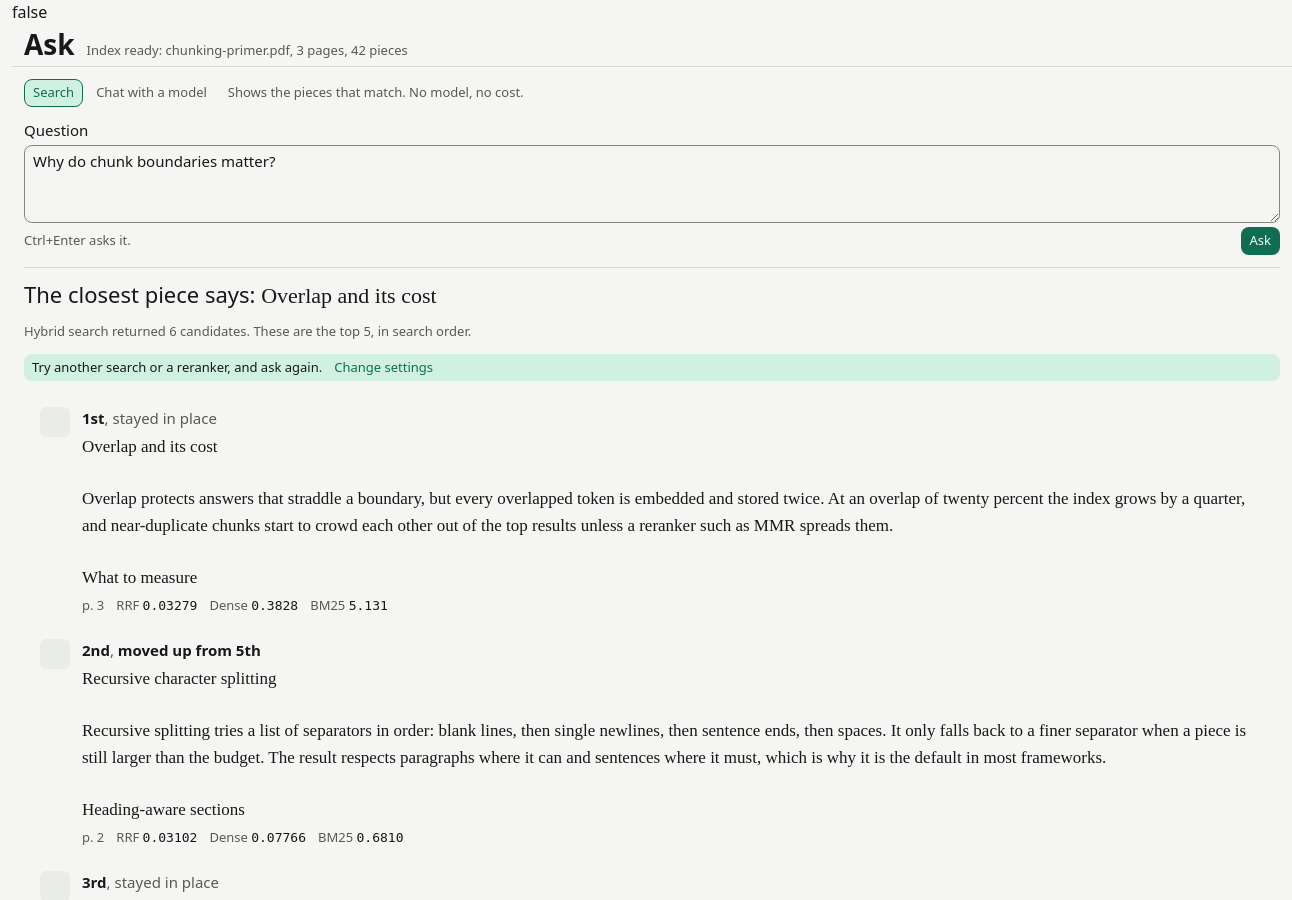
Test: finding the answer › right under a fresh answer, invites a change of search or reranker, and its button opens the settings and goes to them
Check: the element with test id "ask-invite" reads "Try another search or a reranker, and ask again. Change settings", box [24, 354, 1280, 381]
Step 1. Click the button "Change settings" → [384, 367], box [334, 358, 433, 377]
(page scrolled)
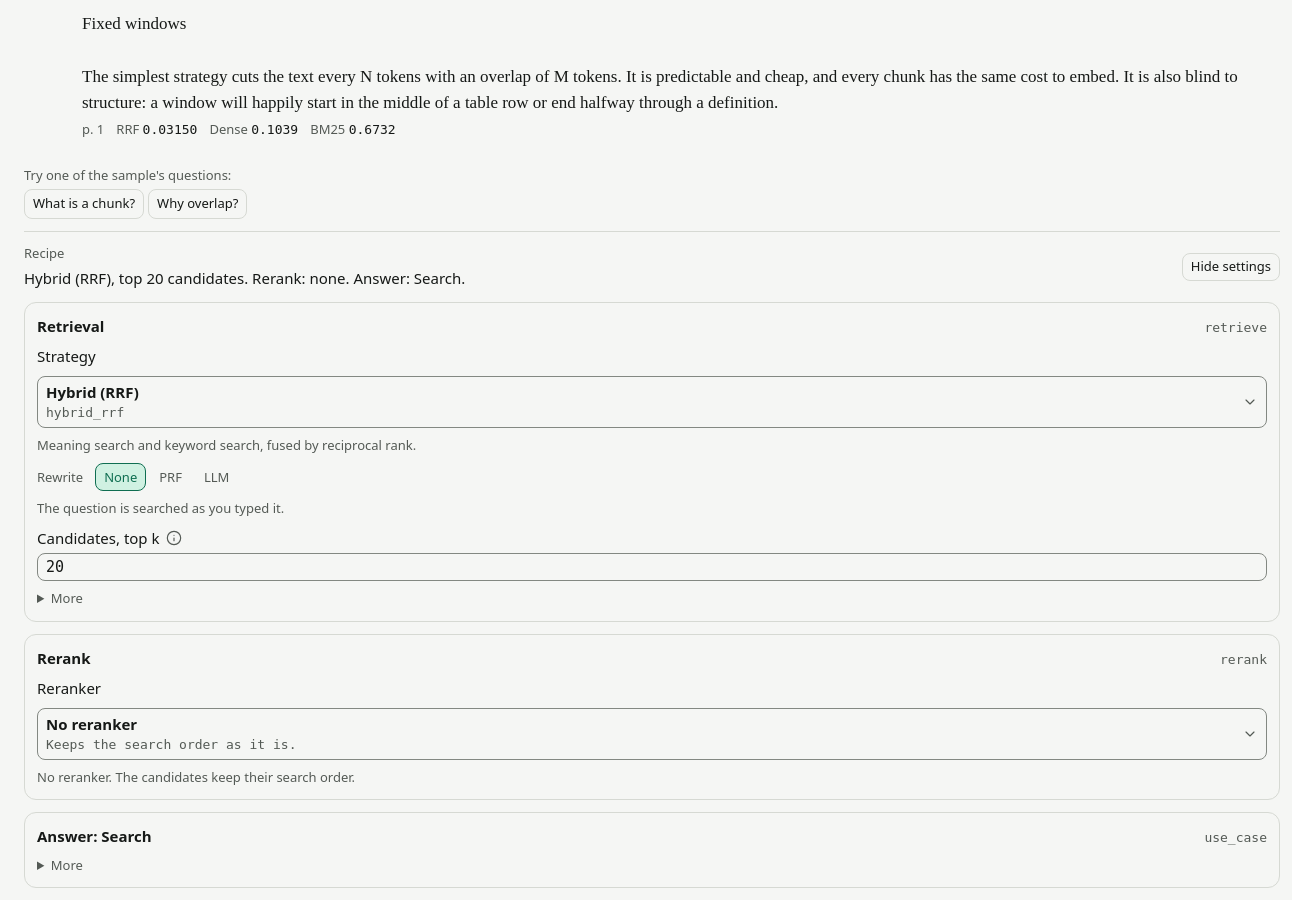
Check: the button "No reranker Keeps the search order as it is." is shown, box [37, 708, 1267, 760]
